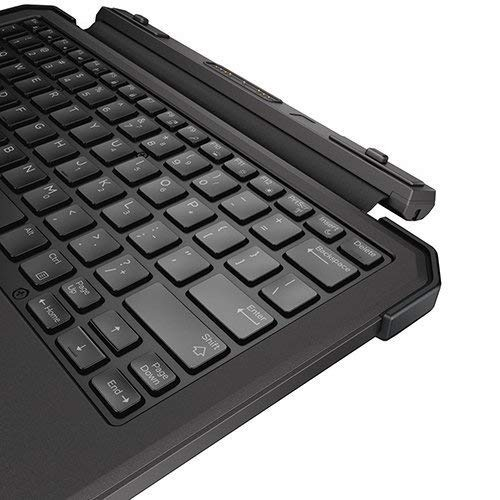Teclado: (1, 1, 440, 500)
